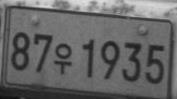1: (80, 39, 99, 78)
3: (121, 42, 142, 82)
5: (144, 44, 165, 84)
7: (32, 33, 53, 73)
8: (9, 30, 30, 71)
9: (100, 39, 120, 79)
우: (52, 42, 73, 74)
